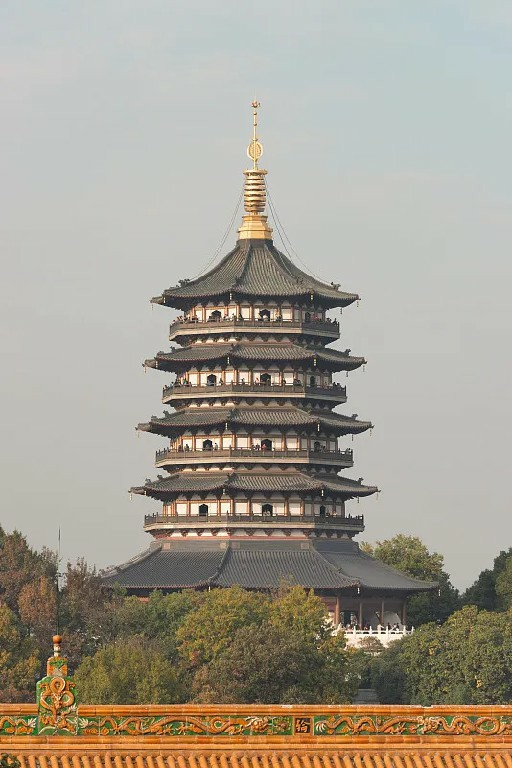Leifeng: (90, 88, 434, 629)
